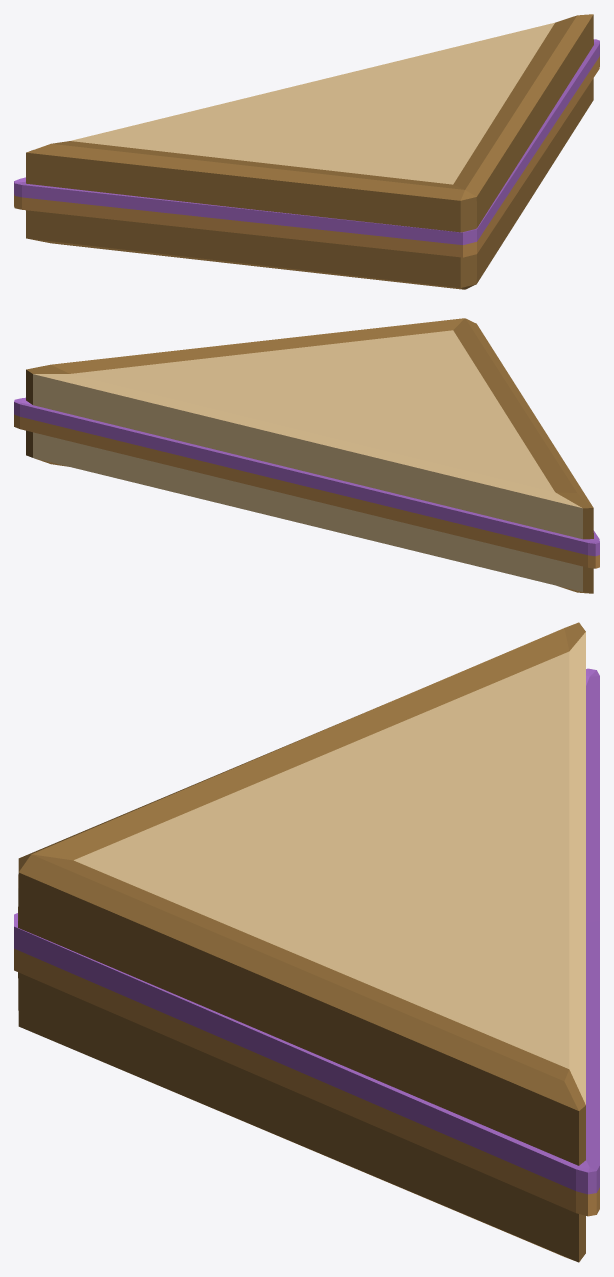
File: PBnJ.fbx
3 views of the same model, one above another, from view 1: azimuth 30°, elevation 25°; view 2: azimuth 150°, elevation 25°; view 3: azimuth 270°, elevation 25° (orthographic). The views are drawn at different scales.
Parts seen in each view (by area): view 1: pbnj; view 2: pbnj; view 3: pbnj.
Part boxes in pixels (x1,y1,x2,y2): pbnj: [14, 14, 599, 289]; pbnj: [14, 318, 599, 593]; pbnj: [14, 622, 599, 1262].
Bounding box in the file's own units: 95.19 × 15.52 × 46.77.
